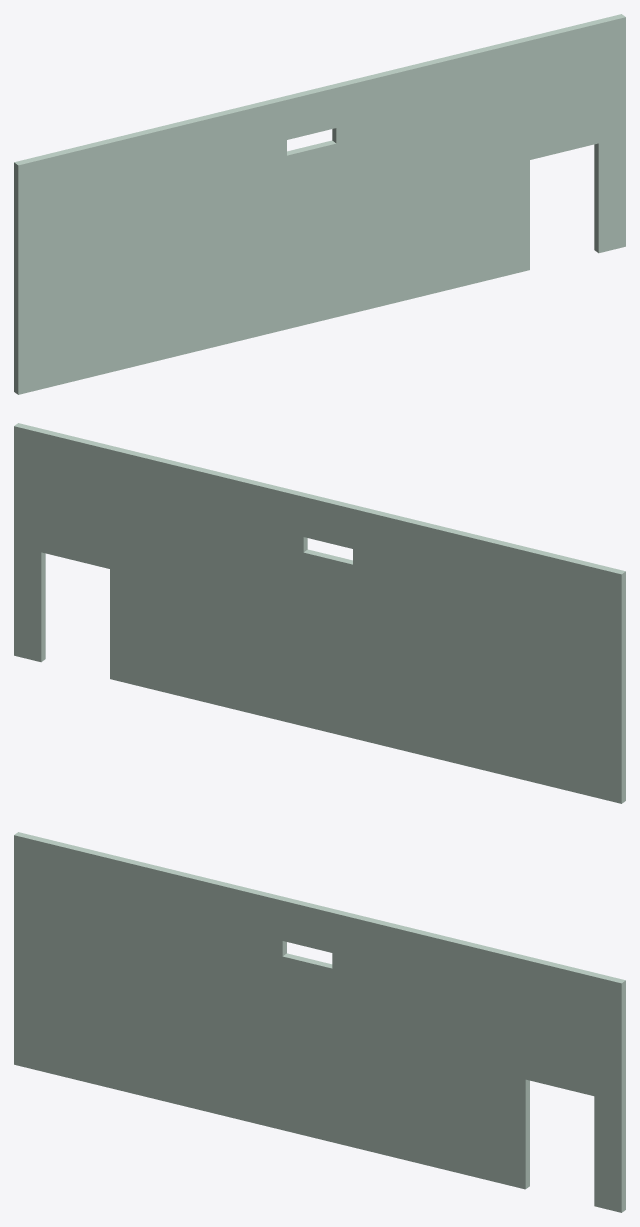
The picture shows the model from 3 angles, top to bottom: view 1: azimuth 30°, elevation 25°; view 2: azimuth 150°, elevation 25°; view 3: azimuth 330°, elevation 25°; orthographic projection.
Parts seen in each view (by area): view 1: 1ignMufqn9zBu9A$JUki0w_h1974; view 2: 1ignMufqn9zBu9A$JUki0w_h1974; view 3: 1ignMufqn9zBu9A$JUki0w_h1974.
Boxes of the visible parts, x1=… form: 1ignMufqn9zBu9A$JUki0w_h1974: x1=14, y1=14, x2=625, y2=394; 1ignMufqn9zBu9A$JUki0w_h1974: x1=14, y1=423, x2=625, y2=803; 1ignMufqn9zBu9A$JUki0w_h1974: x1=14, y1=832, x2=625, y2=1212.
Bounding box in the file's own units: 12.26 × 4.42 × 0.15.
